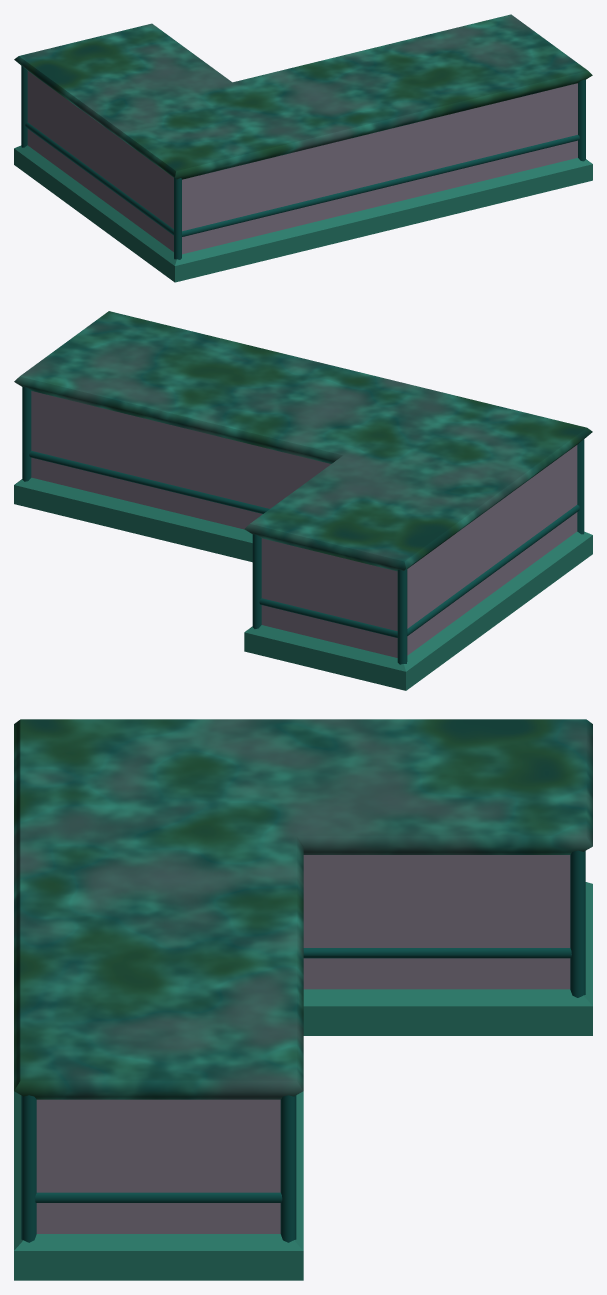
Rendered from EM_048_counter_J.glb.
3 renders of one model, top to bottom at view 1: azimuth 30°, elevation 25°; view 2: azimuth 150°, elevation 25°; view 3: azimuth 270°, elevation 25°, orthographic. The views are drawn at different scales.
Visible parts, largest first — view 1: counter, supports_horizontal, supports_vertical; view 2: counter, supports_horizontal, supports_vertical; view 3: counter, supports_vertical, supports_horizontal.
Boxes of the visible parts, box(x1,y1,x2,y2) form: counter: box(14, 14, 592, 282); supports_horizontal: box(25, 122, 579, 236); supports_vertical: box(21, 66, 585, 259); counter: box(14, 311, 592, 690); supports_horizontal: box(29, 451, 579, 637); supports_vertical: box(22, 386, 584, 664); counter: box(14, 719, 592, 1280); supports_vertical: box(21, 850, 585, 1242); supports_horizontal: box(35, 948, 571, 1202).
Bounding box in the file's own units: 4.5 × 1.12 × 3.
Materials: 4 (1 with a texture image).
